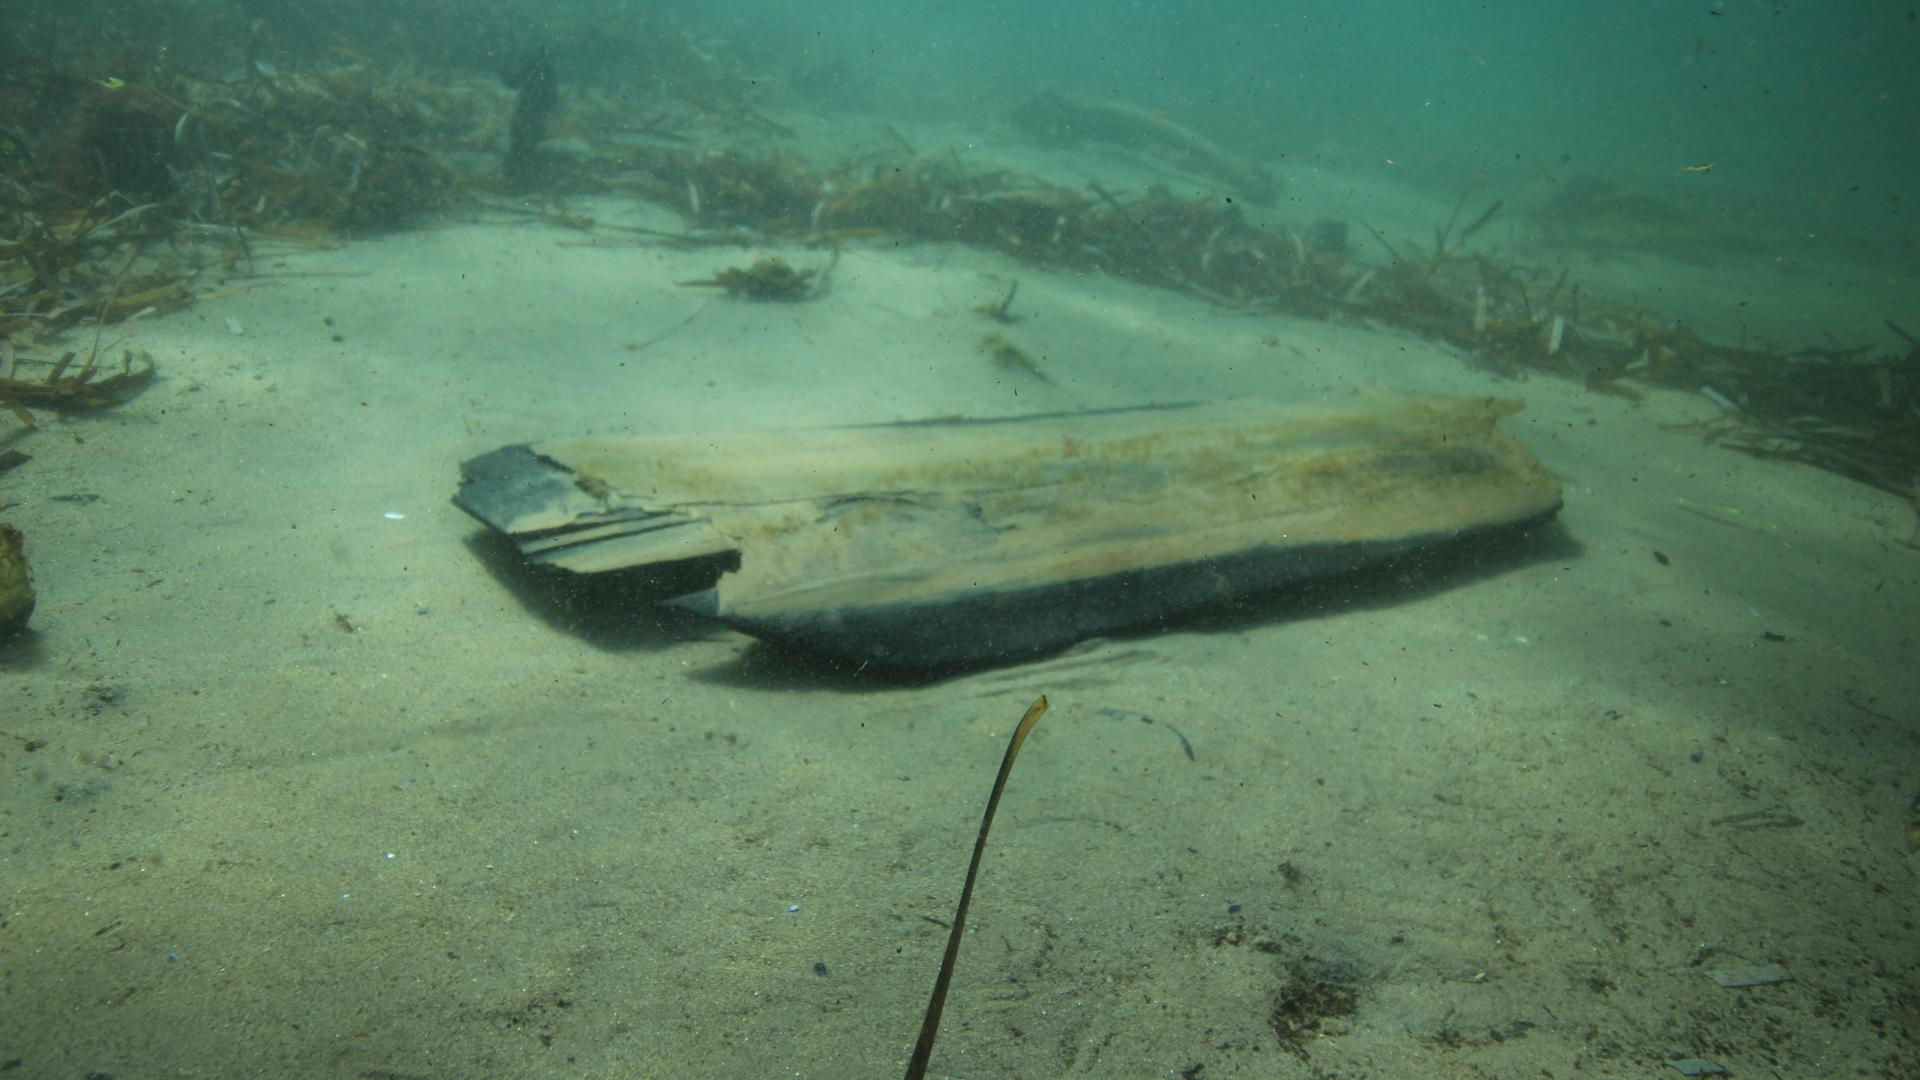wood: (451, 386, 1563, 658)
